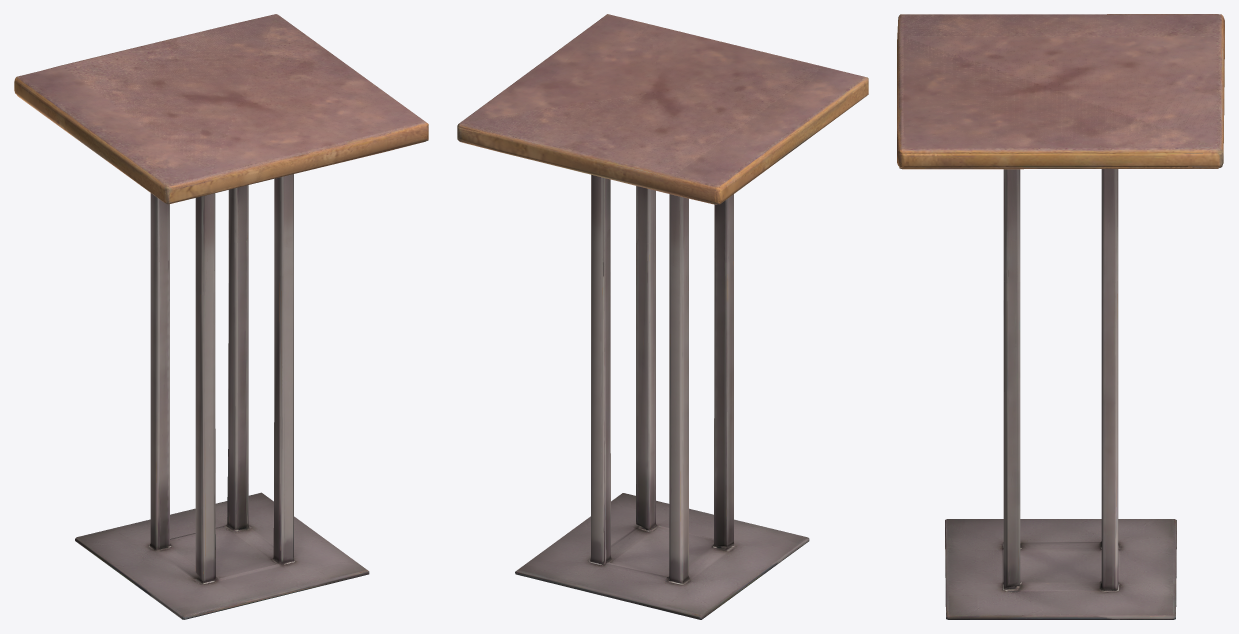
File: Cork_Bar_Table_Squar_0404040924_texture.glb
3 renders of one model, left to right at view 1: azimuth 30°, elevation 25°; view 2: azimuth 150°, elevation 25°; view 3: azimuth 270°, elevation 25°, orthographic. The views are drawn at different scales.
Visible parts, largest first — view 1: Mesh_0.001; view 2: Mesh_0.001; view 3: Mesh_0.001.
Boxes of the visible parts, x1,y1,x2,y2 form: Mesh_0.001: (14, 14, 428, 619); Mesh_0.001: (457, 14, 868, 619); Mesh_0.001: (897, 14, 1224, 619).
Size of the model in its own units: 0.6462 by 1.07 by 0.6462.
Materials: 1 (1 with a texture image).
